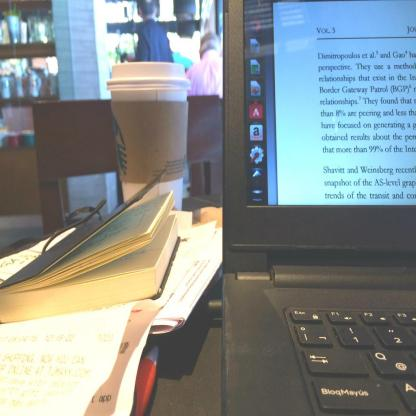board: (221, 0, 415, 415), (108, 64, 188, 216)
